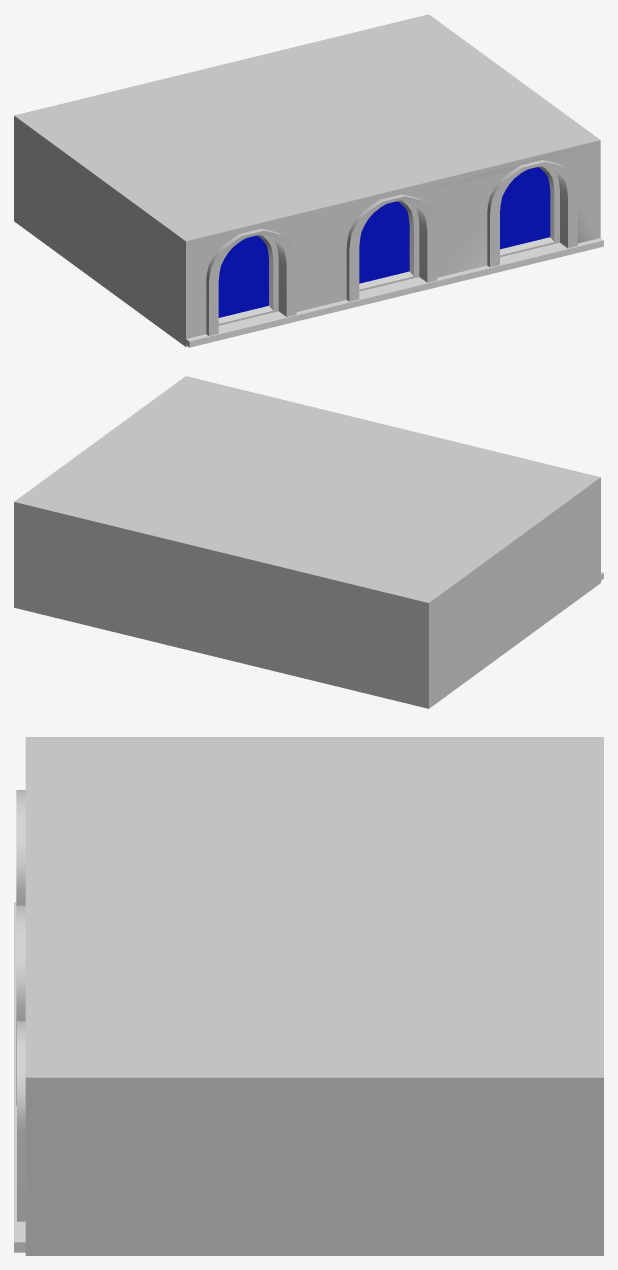
File: Arch Floor.fbx
3 renders of one model, top to bottom at view 1: azimuth 30°, elevation 25°; view 2: azimuth 150°, elevation 25°; view 3: azimuth 270°, elevation 25°, orthographic. The views are drawn at different scales.
Visible parts, largest first — view 1: Building floor base, Cube; view 2: Building floor base; view 3: Building floor base, Cube.
Part boxes in pixels (x1=…): Building floor base: x1=14, y1=14, x2=600, y2=346; Cube: x1=186, y1=238, x2=603, y2=347; Building floor base: x1=14, y1=376, x2=600, y2=708; Building floor base: x1=16, y1=737, x2=603, y2=1255; Cube: x1=14, y1=902, x2=25, y2=1252.
Size of the model in its own units: 1600 by 390 by 1171.
